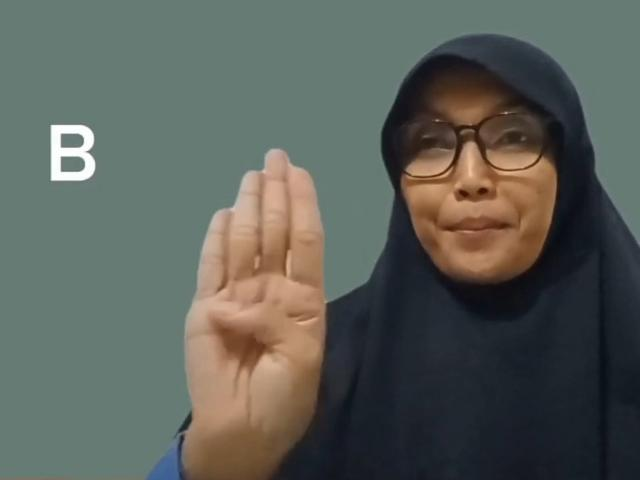B: (182, 150, 328, 442)
